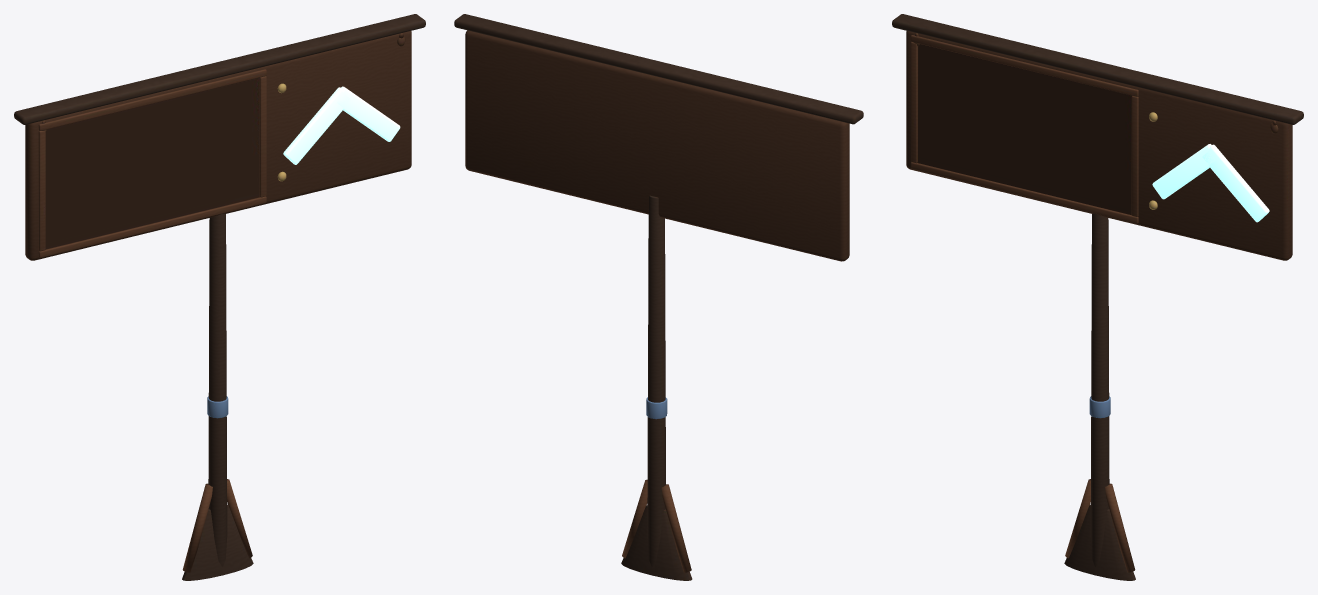
File: trumua-chapter-sign.glb
The picture shows the model from 3 angles, left to right: view 1: azimuth 30°, elevation 25°; view 2: azimuth 150°, elevation 25°; view 3: azimuth 330°, elevation 25°; orthographic projection.
Visible parts, largest first — view 1: trumua-chapter-sign; view 2: trumua-chapter-sign; view 3: trumua-chapter-sign.
Part boxes in pixels (box(x1,y1,x2,y2)): trumua-chapter-sign: box(14, 14, 425, 580); trumua-chapter-sign: box(454, 14, 863, 580); trumua-chapter-sign: box(892, 14, 1303, 580).
Size of the model in its own units: 1.58 by 1.9 by 0.093.
2 materials, 1 textured.
